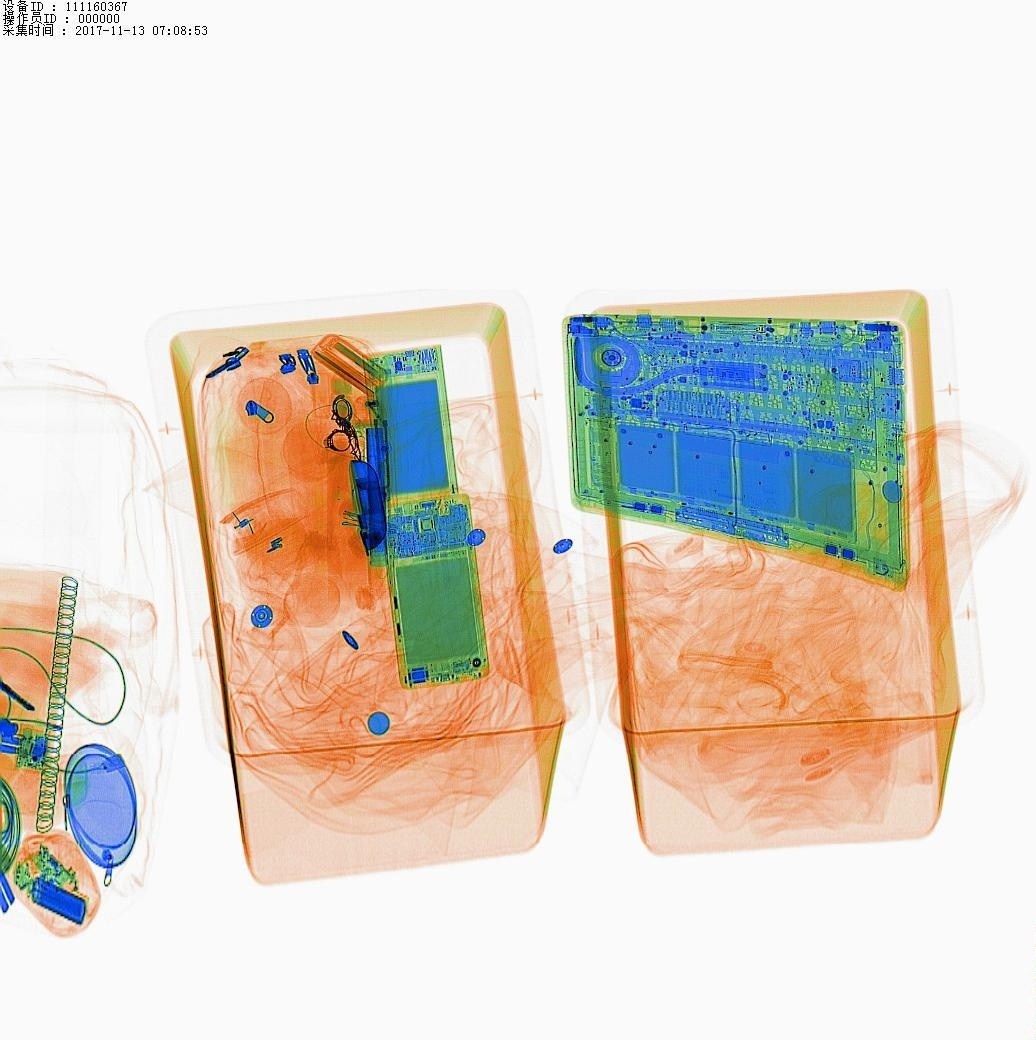coreless: (372, 348, 456, 502)
